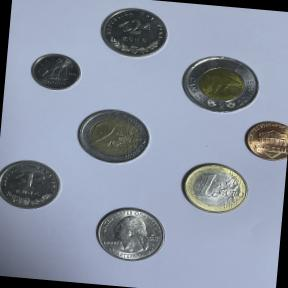coin: (176, 50, 264, 120), (71, 103, 155, 171), (89, 202, 173, 266), (94, 2, 174, 64), (176, 158, 255, 218), (24, 47, 88, 98), (239, 117, 288, 166)
